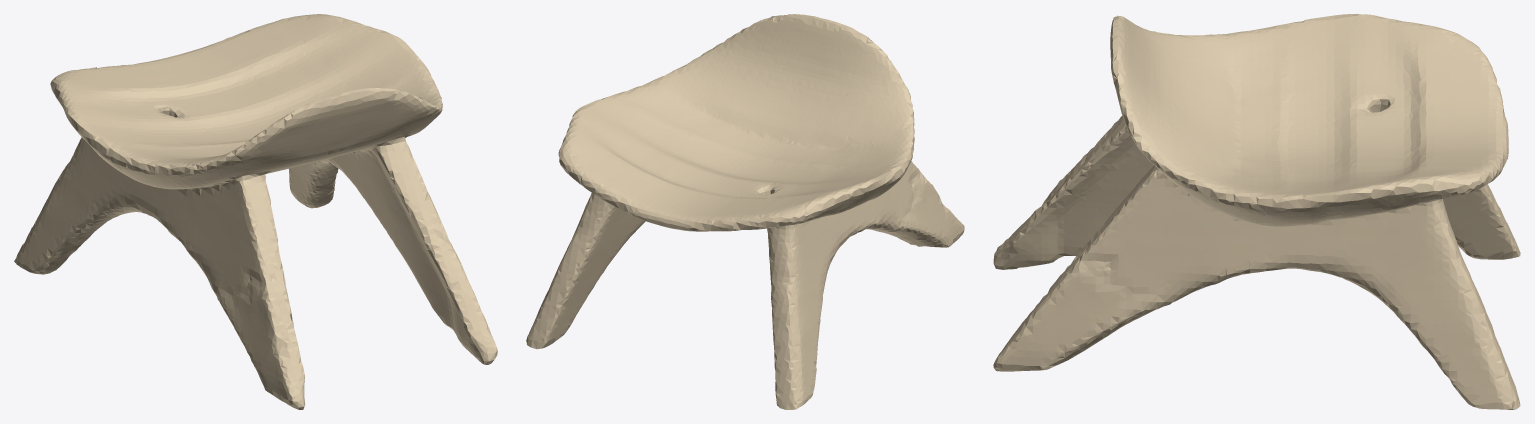
Rendered from stolform-02.glb.
3 views of the same model, side by side, from view 1: azimuth 30°, elevation 25°; view 2: azimuth 150°, elevation 25°; view 3: azimuth 270°, elevation 25° (orthographic). The views are drawn at different scales.
Visible parts, largest first — view 1: stolform-02; view 2: stolform-02; view 3: stolform-02.
Part boxes in pixels (x1,y1,x2,y2): stolform-02: (14,14,497,409); stolform-02: (526,14,964,409); stolform-02: (993,14,1520,409).
Bounding box in the file's own units: 0.8071 × 0.6162 × 0.9917.
